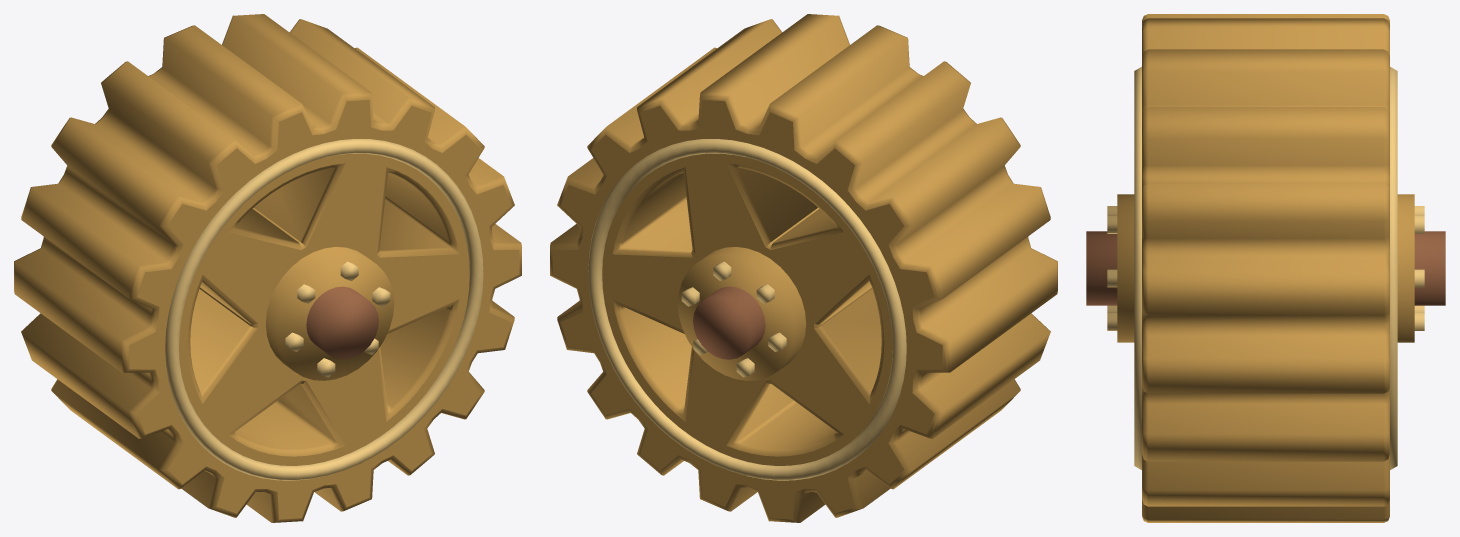
Rendered from gear-18.glb.
3 views of the same model, side by side, from view 1: azimuth 30°, elevation 25°; view 2: azimuth 150°, elevation 25°; view 3: azimuth 270°, elevation 25° (orthographic). The views are drawn at different scales.
Parts seen in each view (by area): view 1: gear; view 2: gear; view 3: gear.
Boxes of the visible parts, x1,y1,x2,y2 form: gear: [14, 14, 521, 522]; gear: [550, 14, 1057, 522]; gear: [1086, 14, 1445, 522].
Bounding box in the file's own units: 2.05 × 2.04 × 1.45.
